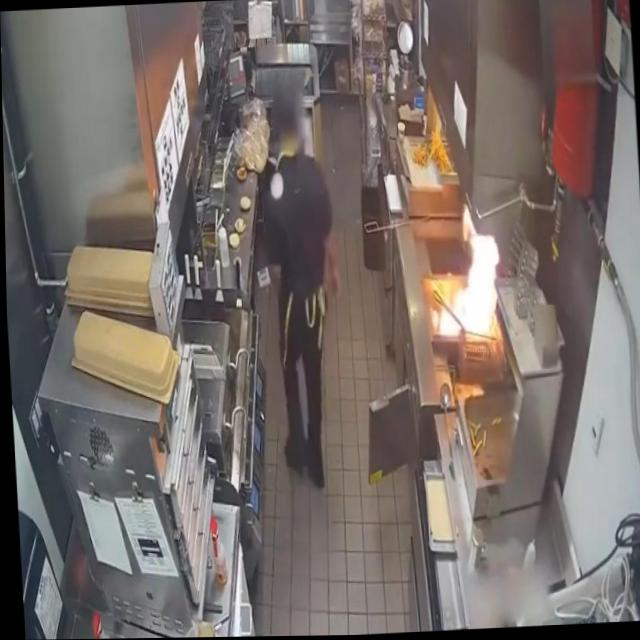fire: (434, 199, 504, 336)
